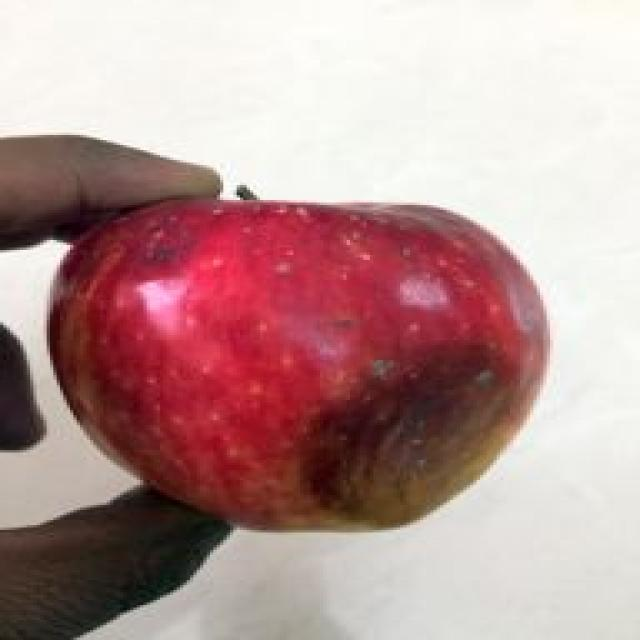Bad_Apple: (48, 200, 547, 528)
